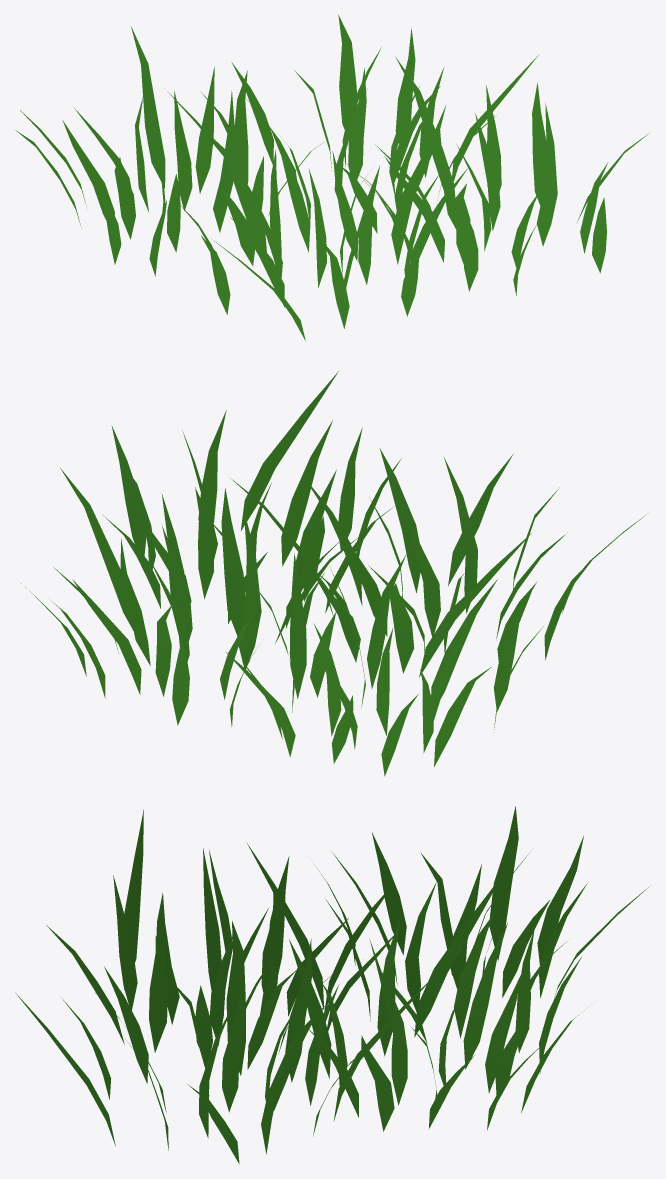
Rendered from Grass.glb.
3 renders of one model, top to bottom at view 1: azimuth 30°, elevation 25°; view 2: azimuth 150°, elevation 25°; view 3: azimuth 270°, elevation 25°, orthographic. The views are drawn at different scales.
Parts seen in each view (by area): view 1: Grass; view 2: Grass; view 3: Grass.
Part boxes in pixels (box(x1,y1,x2,y2)): Grass: box(15, 15, 649, 340); Grass: box(20, 371, 646, 776); Grass: box(15, 806, 649, 1164).
Size of the model in its own units: 1.08 by 0.2807 by 1.11.
